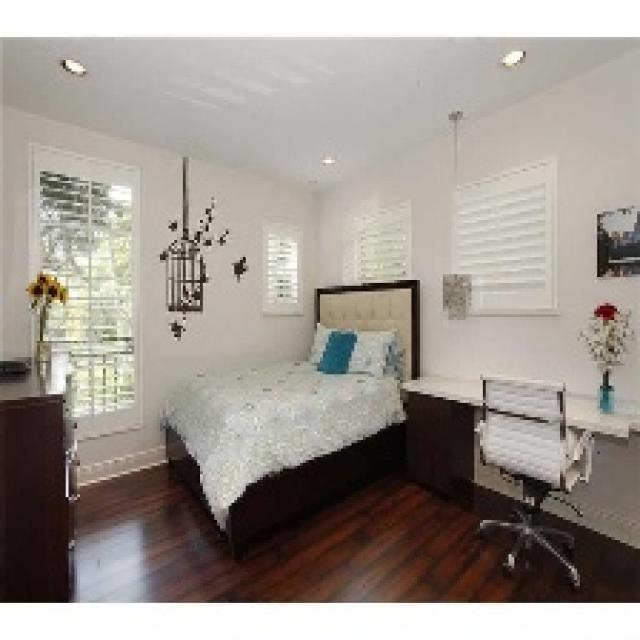Bed: (160, 277, 420, 560)
